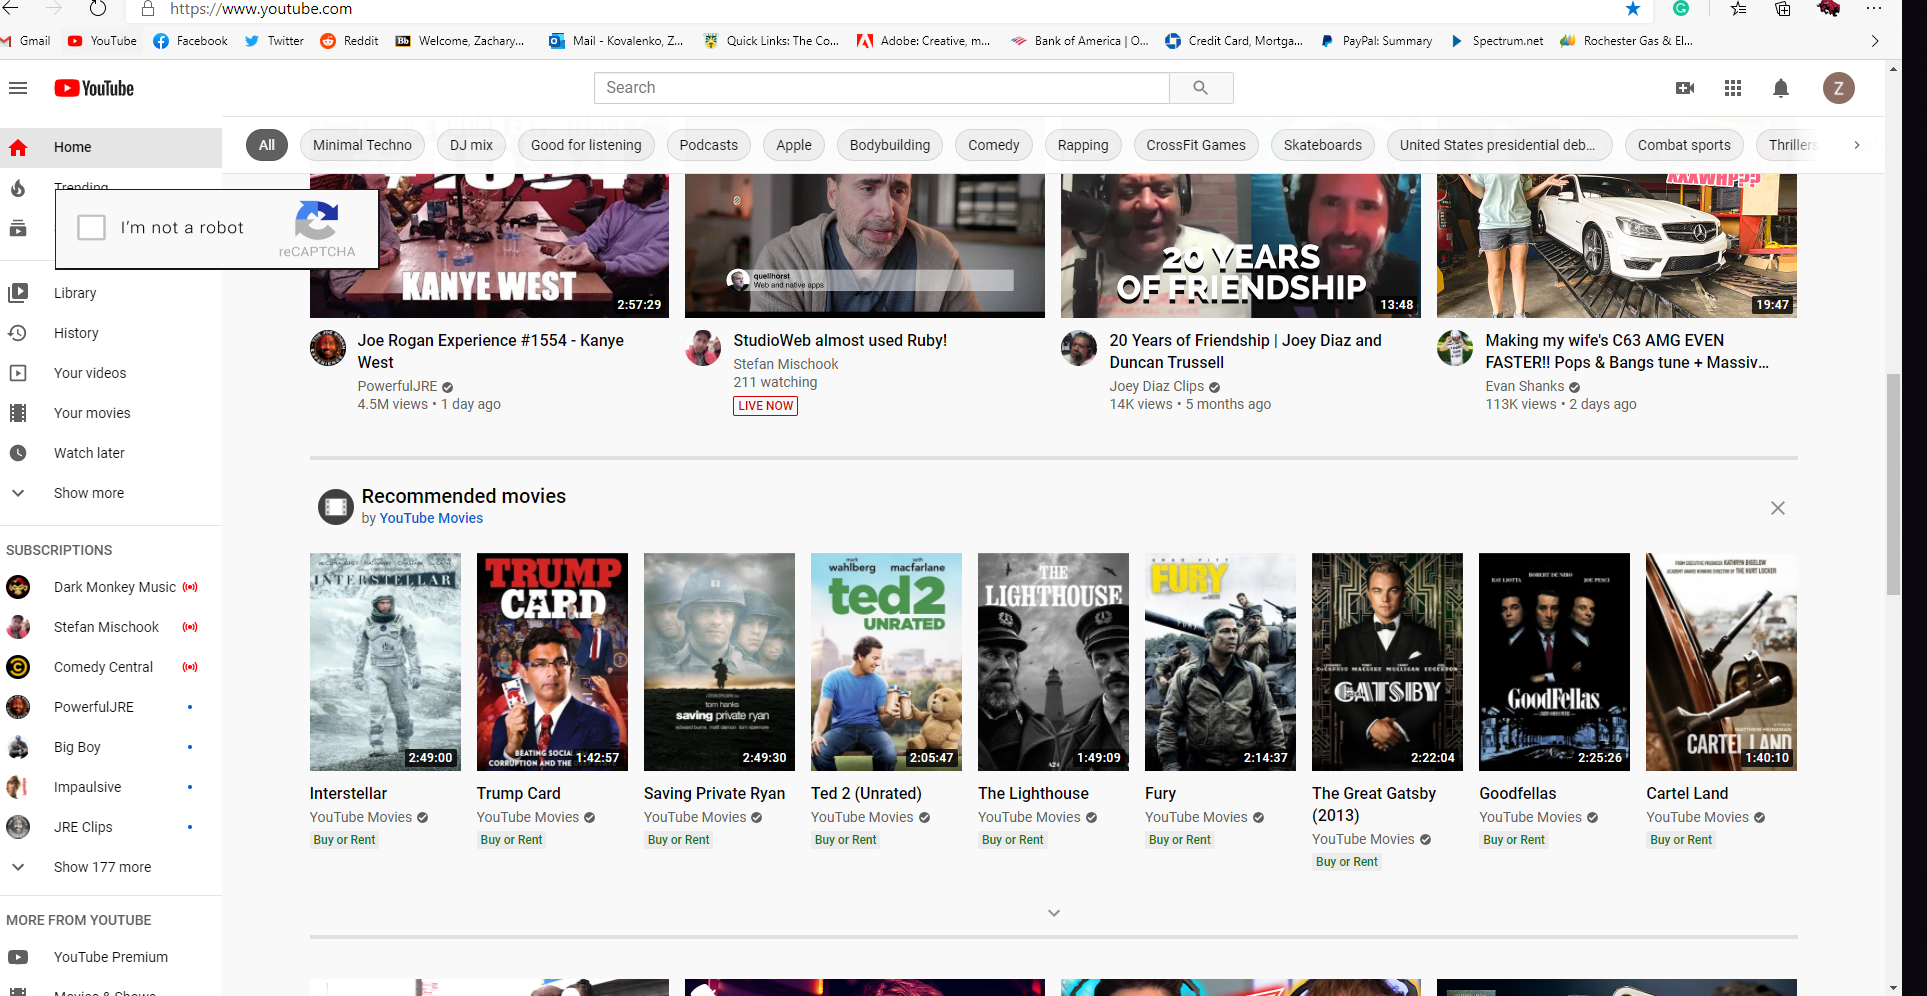captcha: (56, 191, 376, 266)
